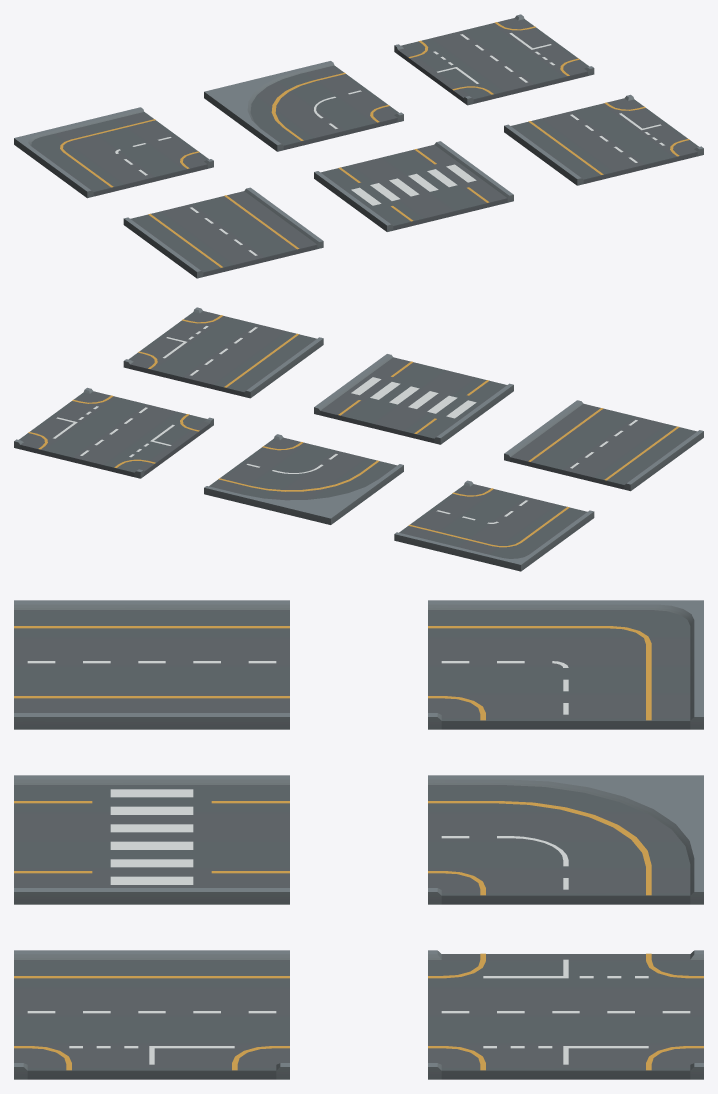
The model's file is road_bits_free_model.glb.
3 views of the same model, one above another, from view 1: azimuth 30°, elevation 25°; view 2: azimuth 150°, elevation 25°; view 3: azimuth 270°, elevation 25° (orthographic). The views are drawn at different scales.
Parts seen in each view (by area): view 1: road_corner, road_corner_curved, road_straight, road_straight_crossing, road_junction, road_tsplit; view 2: road_straight, road_straight_crossing, road_tsplit, road_corner, road_junction, road_corner_curved; view 3: road_corner, road_corner_curved, road_straight, road_straight_crossing, road_tsplit, road_junction.
Part boxes in pixels (<box>): road_corner: <box>14,107,213,198</box>; road_corner_curved: <box>204,61,403,151</box>; road_straight: <box>123,187,323,278</box>; road_straight_crossing: <box>314,141,513,231</box>; road_junction: <box>394,14,594,105</box>; road_tsplit: <box>504,94,703,185</box>; road_straight: <box>504,400,703,491</box>; road_straight_crossing: <box>314,354,513,444</box>; road_tsplit: <box>123,307,323,398</box>; road_corner: <box>394,480,594,571</box>; road_junction: <box>14,387,213,478</box>; road_corner_curved: <box>204,434,403,524</box>; road_corner: <box>428,600,703,729</box>; road_corner_curved: <box>428,775,703,904</box>; road_straight: <box>14,600,289,729</box>; road_straight_crossing: <box>14,775,289,904</box>; road_tsplit: <box>14,950,289,1079</box>; road_junction: <box>428,950,703,1079</box>.
Bounding box in the file's own units: 8 × 0.1 × 5.
1 material, 1 textured.
